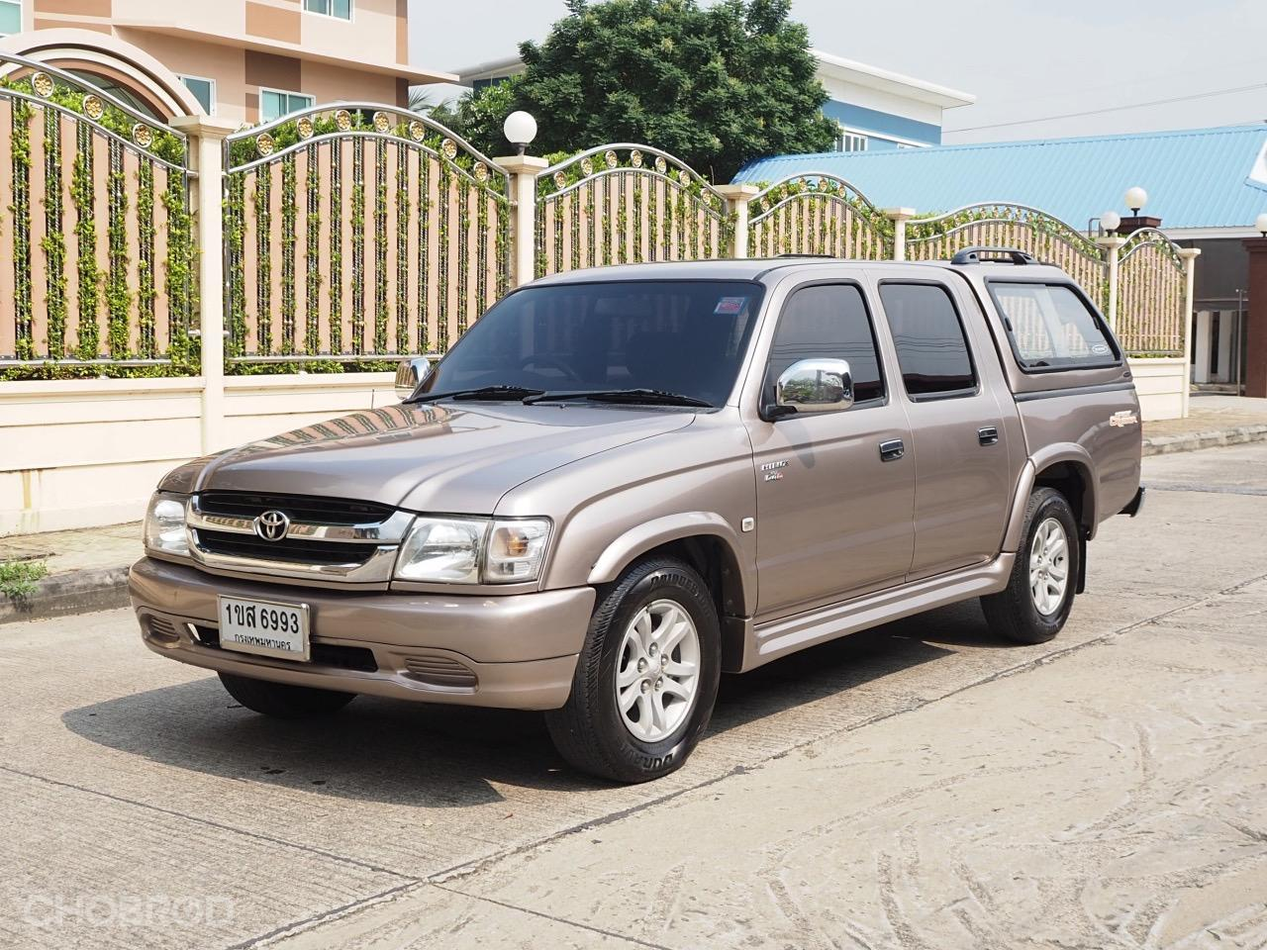license-plate: (206, 587, 321, 670)
